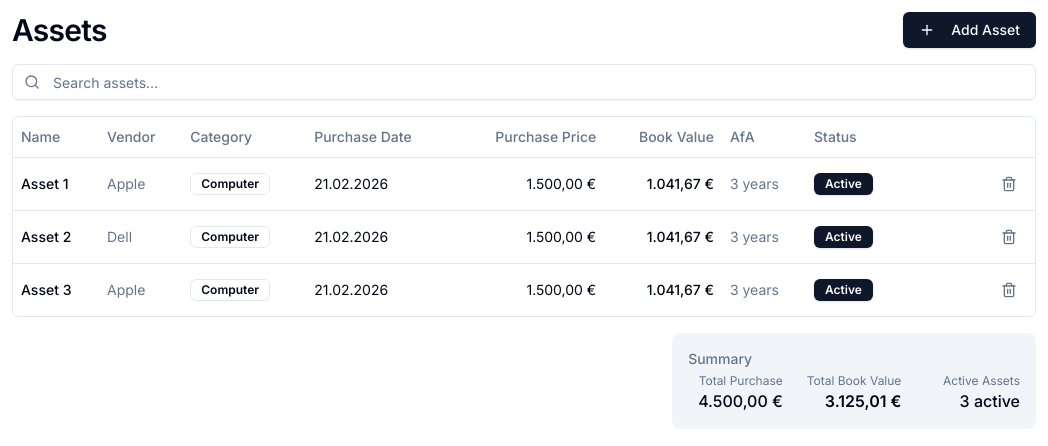
AssetList › filtering › filters by vendor name
This screenshot has width=1048, height=446.
Type "Apple" into the field with placeholder "Search assets..." at (524, 82), box x1=12 y1=64 x2=1036 y2=100
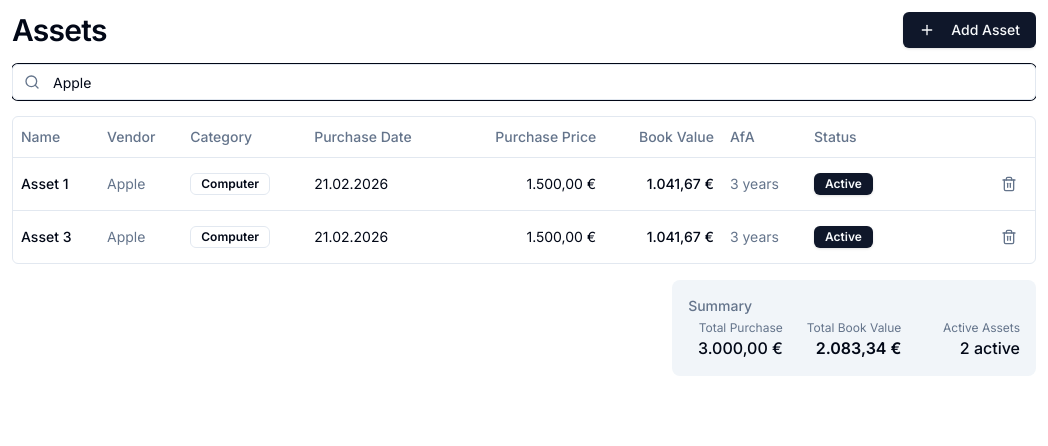
Expected: the text "Asset 1" is shown, x1=13 y1=157 x2=99 y2=210
Result: the text "Asset 2" is gone
